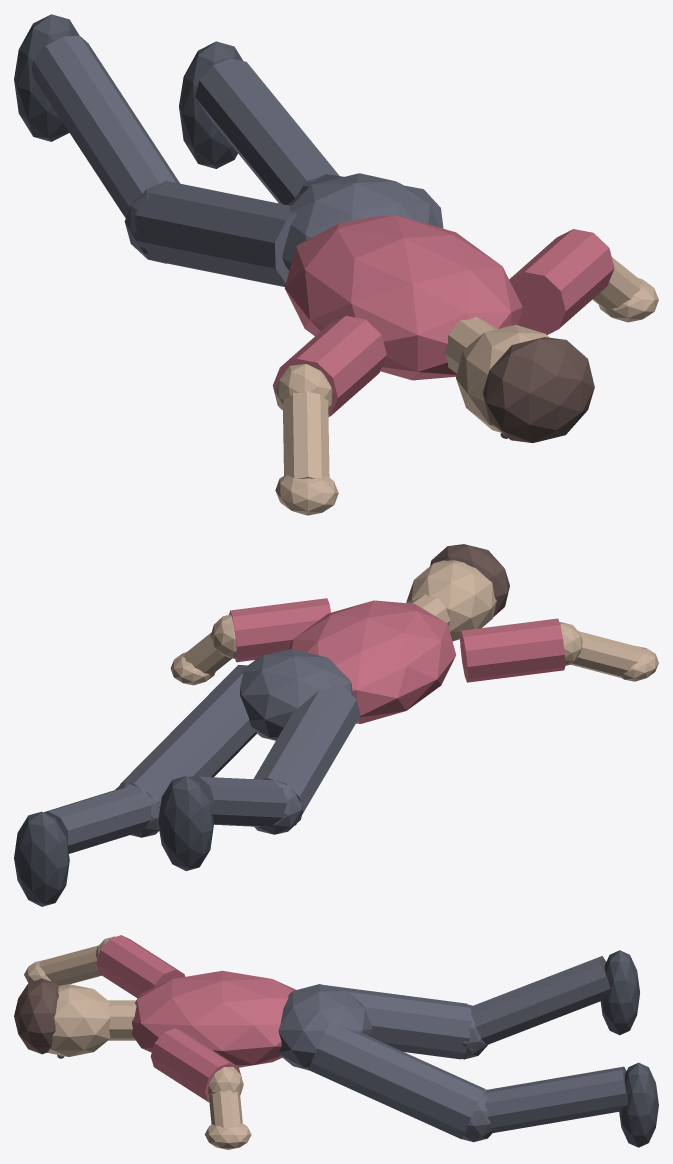
The picture shows the model from 3 angles, top to bottom: view 1: azimuth 30°, elevation 25°; view 2: azimuth 150°, elevation 25°; view 3: azimuth 270°, elevation 25°; orthographic projection. The views are drawn at different scales.
Parts seen in each view (by area): view 1: world; view 2: world; view 3: world.
Boxes of the visible parts, x1,y1,x2,y2 form: world: (14,14,658,515); world: (14,544,658,906); world: (14,935,658,1149).
Bounding box in the file's own units: 1.25 × 0.4905 × 2.06.
